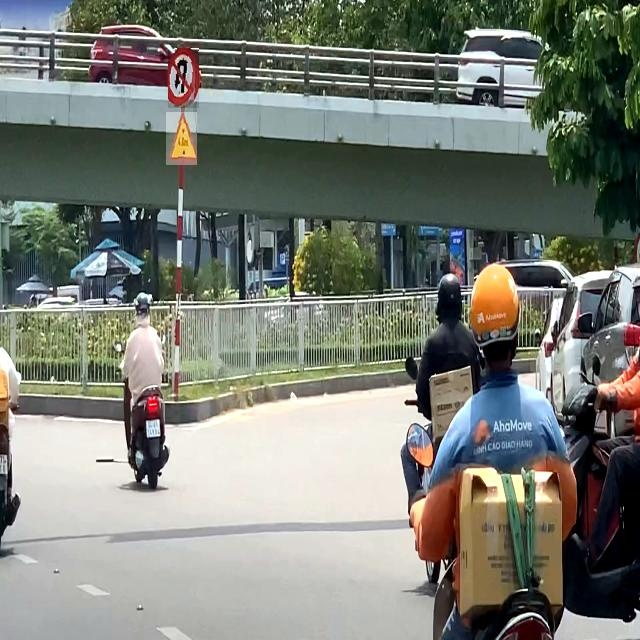bien_nguy_hiem: (168, 48, 199, 108), (166, 112, 197, 165)
